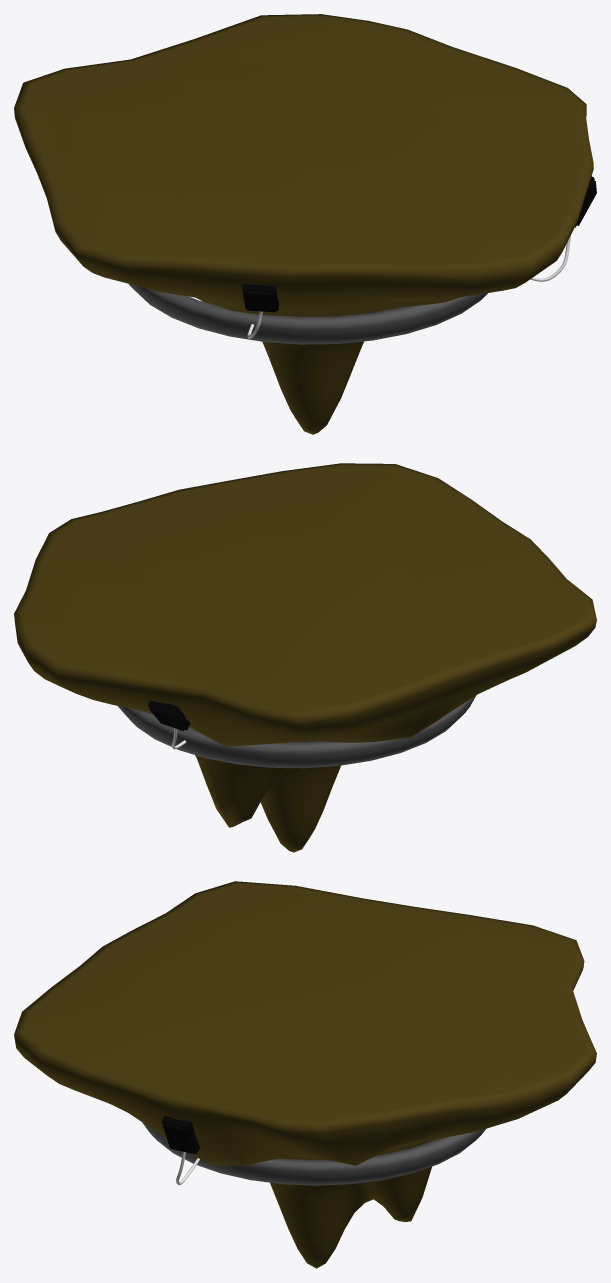
Rendered from FloatingPlatform.fbx.
The picture shows the model from 3 angles, top to bottom: view 1: azimuth 30°, elevation 25°; view 2: azimuth 150°, elevation 25°; view 3: azimuth 270°, elevation 25°; orthographic projection. The views are drawn at different scales.
Visible parts, largest first — view 1: Island, HoverRing, PowerPanel3; view 2: Island, HoverRing, PowerPanel1; view 3: Island, HoverRing, PowerPanel2.
Boxes of the visible parts, bbox=[...] form: Island: bbox=[14, 14, 593, 434]; HoverRing: bbox=[129, 284, 487, 344]; PowerPanel3: bbox=[242, 284, 279, 312]; Island: bbox=[14, 463, 596, 852]; HoverRing: bbox=[118, 696, 475, 768]; PowerPanel1: bbox=[147, 700, 190, 731]; Island: bbox=[14, 881, 596, 1268]; HoverRing: bbox=[142, 1122, 485, 1185]; PowerPanel2: bbox=[161, 1115, 200, 1153].
Size of the model in its own units: 1099 by 1078 by 548.
